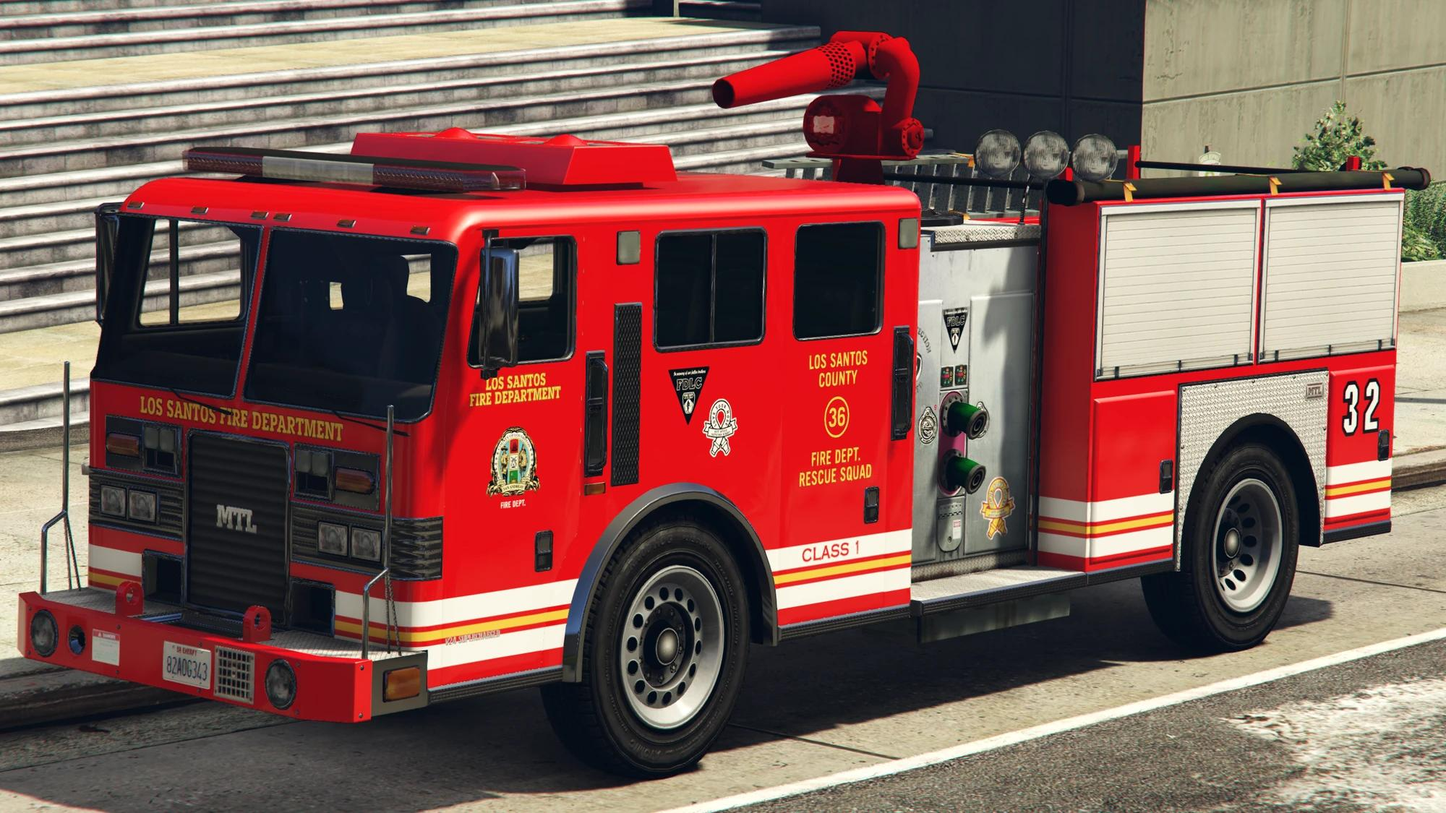Fire-engine: (15, 28, 1432, 779)
